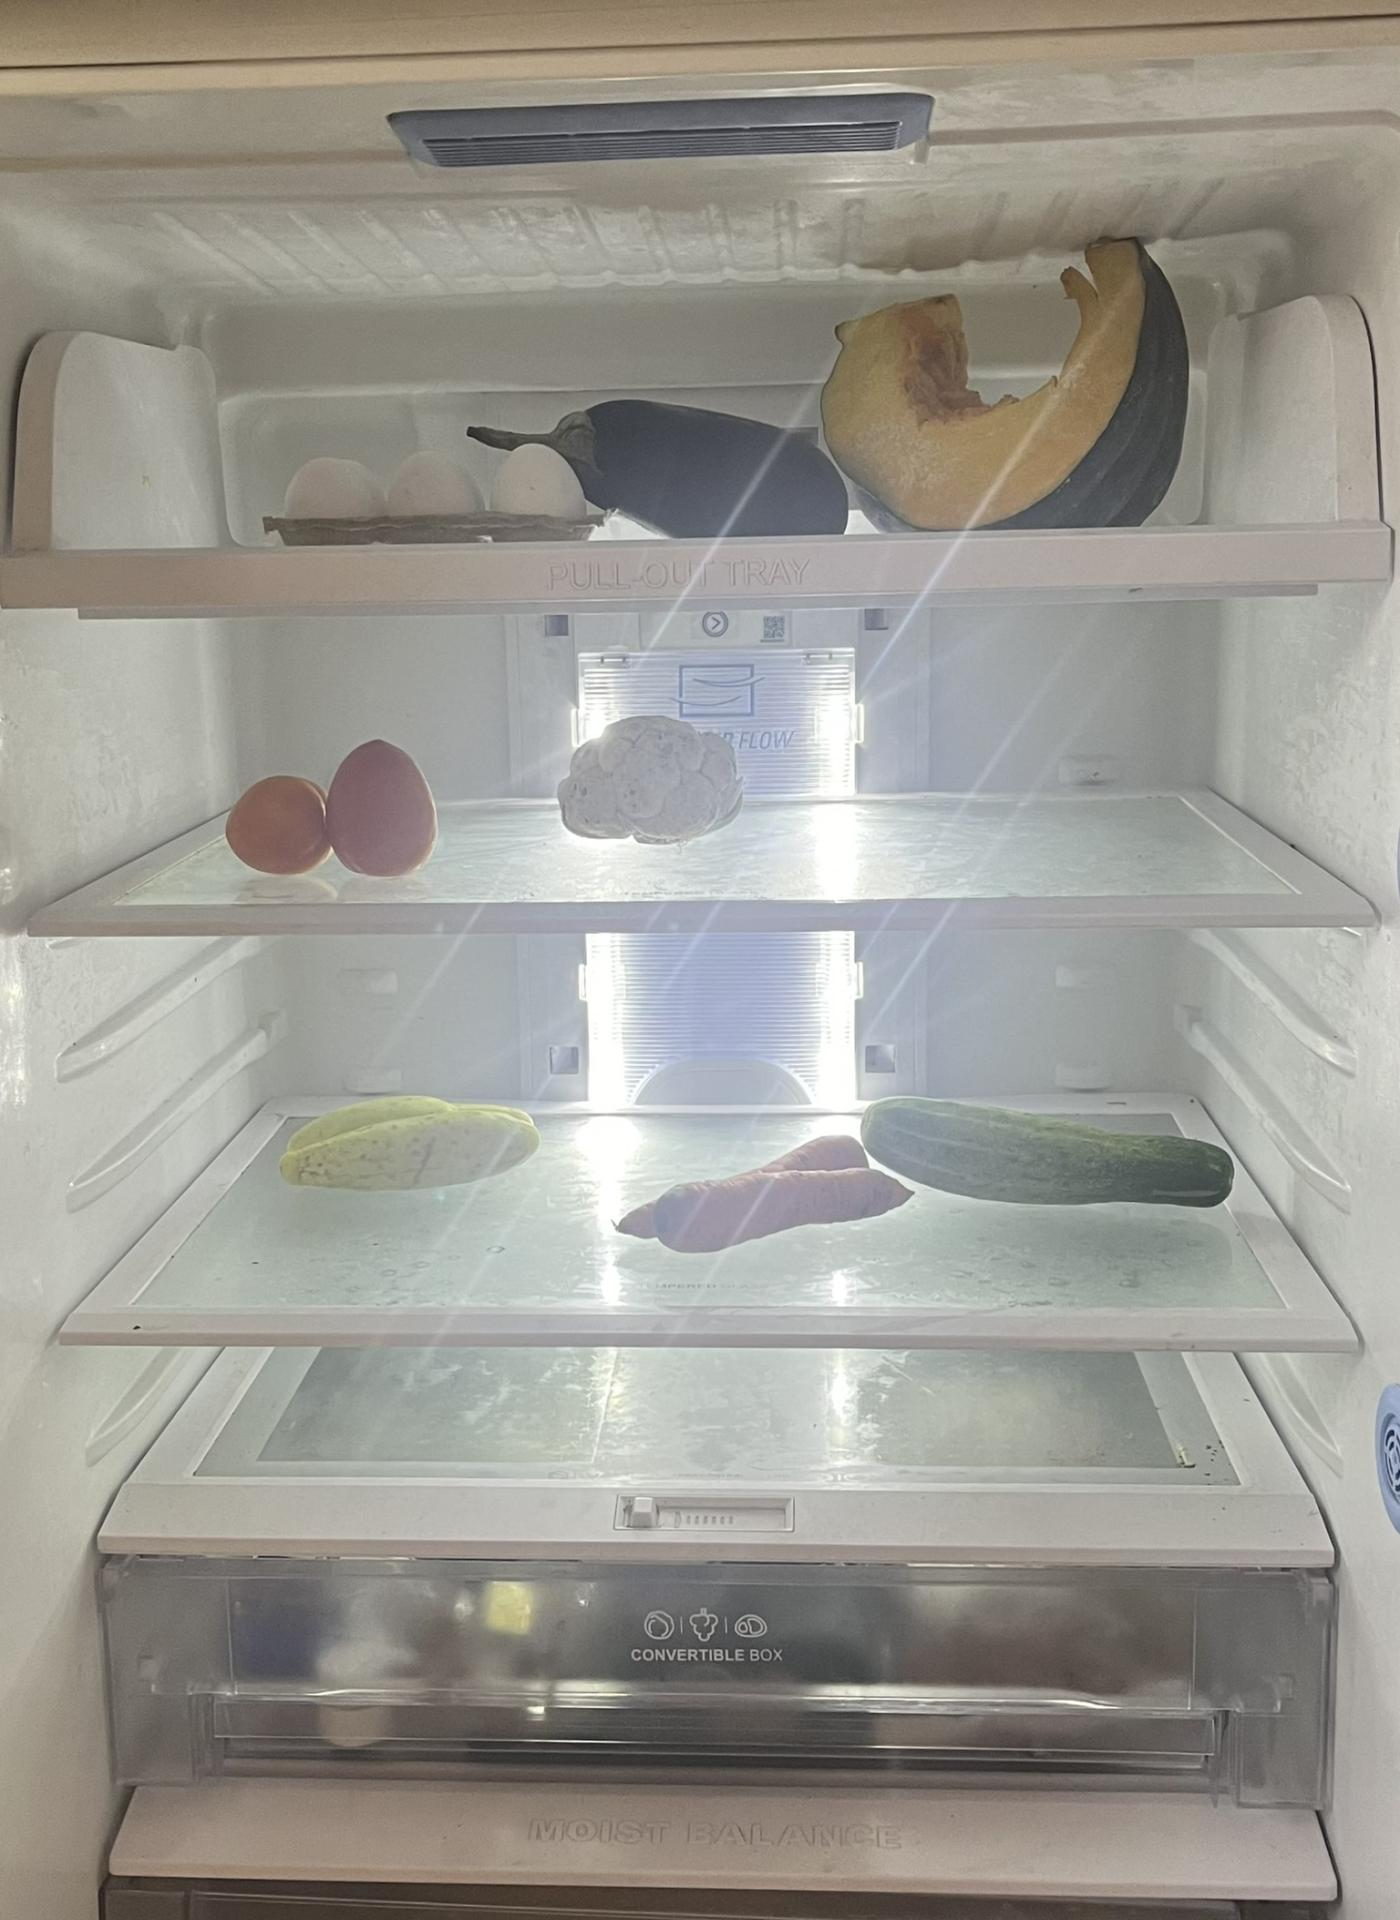brinjal: (487, 392, 837, 536)
carrots: (609, 1132, 913, 1252)
cauliflower: (556, 717, 748, 846)
cucumber: (861, 1085, 1251, 1200), (275, 1086, 549, 1186)
egg: (280, 453, 576, 542)
pumpkin: (822, 239, 1198, 532)
tomato: (222, 735, 434, 876)
